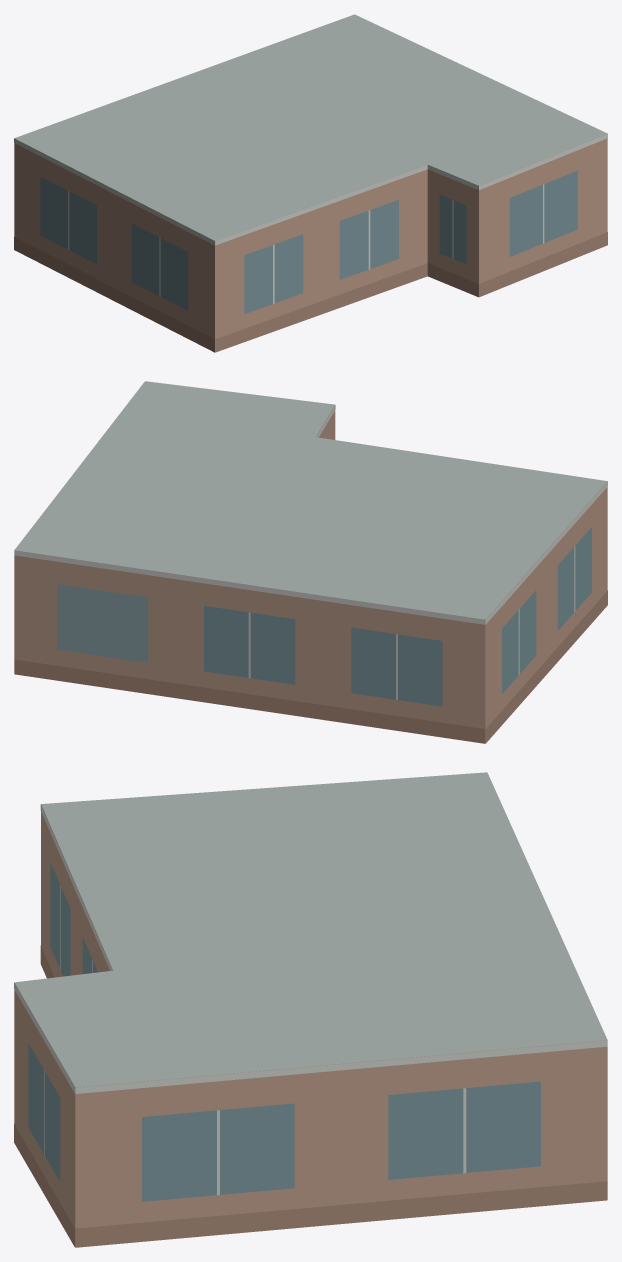
Rendered from survey-upis-32606816.glb.
3 views of the same model, one above another, from view 1: azimuth 30°, elevation 25°; view 2: azimuth 150°, elevation 25°; view 3: azimuth 270°, elevation 25° (orthographic). The views are drawn at different scales.
Visible parts, largest first — view 1: survey-upis-32606816.tmp; view 2: survey-upis-32606816.tmp; view 3: survey-upis-32606816.tmp.
Boxes of the visible parts, x1,y1,x2,y2 form: survey-upis-32606816.tmp: (14,14,607,352); survey-upis-32606816.tmp: (14,381,607,743); survey-upis-32606816.tmp: (14,772,607,1247).
Size of the model in its own units: 12.89 by 3.05 by 10.25.
